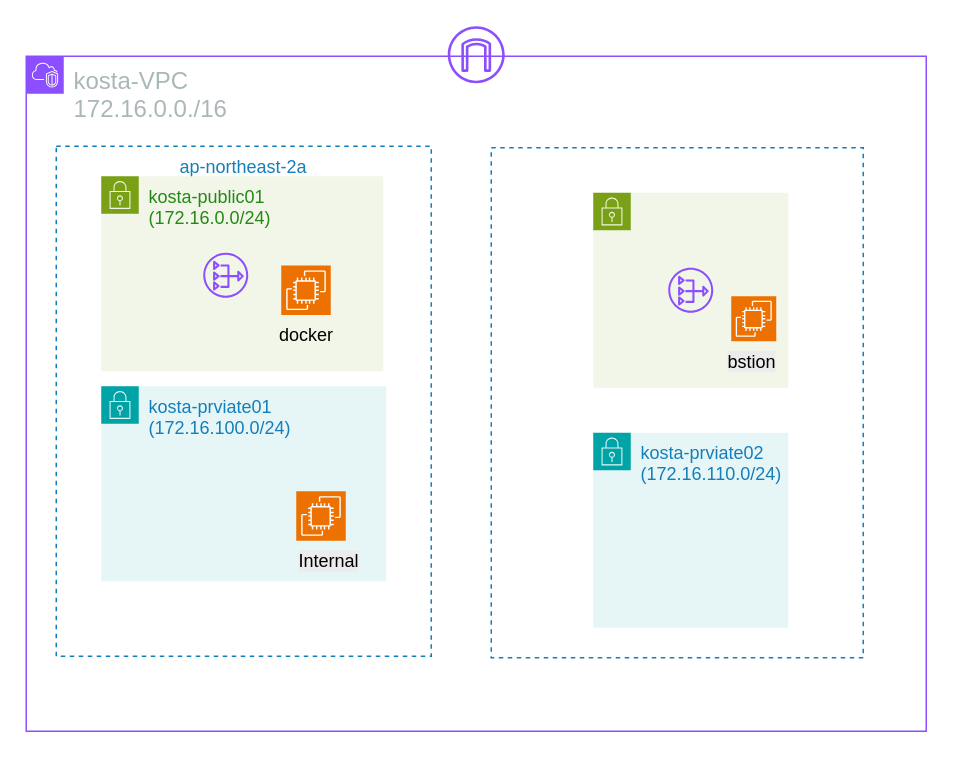
Some shapes in this 953 by 758 pixel diagram are drawn without their labels. The box of each missing label's shape, as (x1, y1, x2, y2) in pixels:
ap-northeast-2c: (490, 146, 863, 658)
kosta-public02 (172.16.10.0/24 ): (592, 191, 788, 388)
